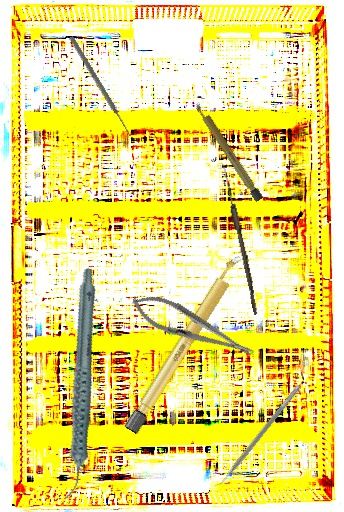Handpiece: (15, 265, 142, 503)
Needle Holder: (126, 285, 258, 369)
Pusher: (67, 35, 134, 138)
Scalpel Handle: (123, 251, 247, 435), (193, 100, 264, 203)
Spatula Surgical: (212, 380, 302, 491)
Surgical Spoon: (220, 166, 261, 315)
